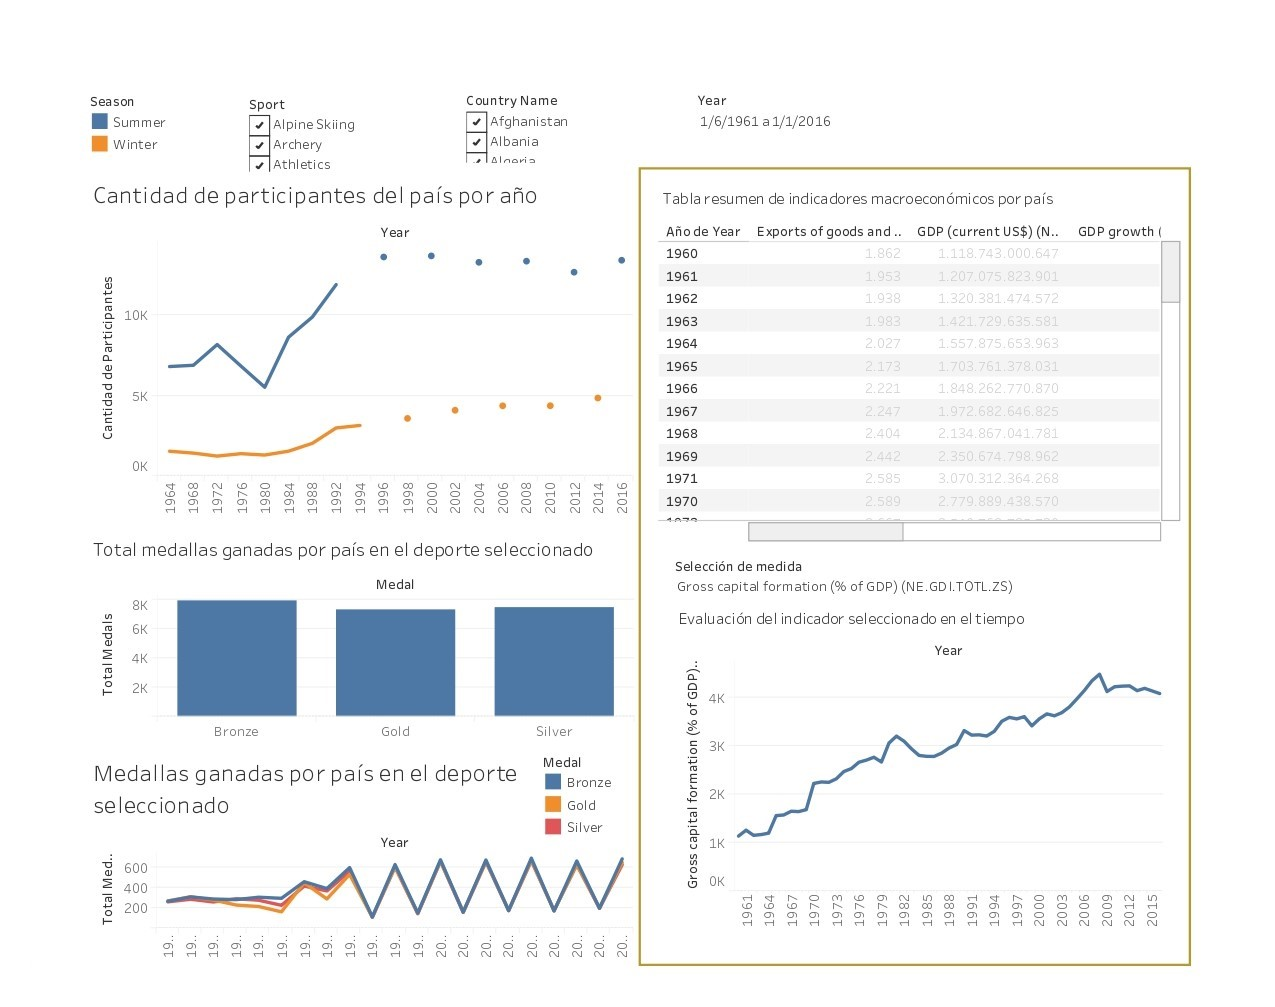

What the dashboard file says about the page in this screenshot:
{"tool":"tableau","page":{"name":"Dashboard 1","canvas":[1000,800],"ordinal":0},"visuals":[{"type":"legend","title":"Sheet 1","param":"[federated.1vdwbz40s2s6qf16ceicz03bylrb].[none:Season:nk]","box":[8,8,335.5,74]},{"type":"filter","title":"Sheet 1","param":"[federated.1vdwbz40s2s6qf16ceicz03bylrb].[none:Country Name:nk]","box":[343.5,8,205.5,74]},{"type":"filter","title":"Sheet 1","param":"[federated.1vdwbz40s2s6qf16ceicz03bylrb].[none:Year:qk]","box":[549,8,443,74]},{"type":"filter","title":"Hoja 2","param":"[federated.1wsl2051qh41ce0zwxgki1u3ixzy].[none:Sport:nk]","box":[155,15,168,71]},{"type":"worksheet","title":"Sheet 1","mark":"Automatic","rows":["Cantidad de Participantes"],"cols":["Year"],"box":[8,82,493,318]},{"type":"worksheet","title":"Hoja 4","mark":"Automatic","rows":["Year"],"box":[519,94,464,321]},{"type":"worksheet","title":"Hoja 2","mark":"Automatic","rows":["Total Medals"],"cols":["Medal"],"box":[8,400,493,196]},{"type":"parameter","param":"[Parameters].[p.Measure Selection (copia)]","box":[533,426,461,45]},{"type":"worksheet","title":"Hoja 5","mark":"Automatic","cols":["Year"],"box":[532,467,435,291]},{"type":"worksheet","title":"Hoja 3","mark":"Automatic","rows":["Total Medals"],"cols":["Year"],"box":[8,596,493,196]},{"type":"legend","title":"Hoja 3","param":"[federated.1wsl2051qh41ce0zwxgki1u3ixzy].[none:Medal:nk]","box":[415,599,77,79]}]}

Visuals, with their boxes in screenshot pixels (x1, y1, x2, y2), scaled from the page's 1000x800 canvas onto the 1275x1007 screenshot:
"Sheet 1" legend: crop(10, 10, 438, 103)
"Sheet 1" filter: crop(438, 10, 700, 103)
"Sheet 1" filter: crop(700, 10, 1265, 103)
"Hoja 2" filter: crop(198, 19, 412, 108)
"Sheet 1" worksheet: crop(10, 103, 639, 504)
"Hoja 4" worksheet: crop(662, 118, 1253, 522)
"Hoja 2" worksheet: crop(10, 504, 639, 750)
parameter: crop(680, 536, 1267, 593)
"Hoja 5" worksheet: crop(678, 588, 1233, 954)
"Hoja 3" worksheet: crop(10, 750, 639, 997)
"Hoja 3" legend: crop(529, 754, 627, 853)
